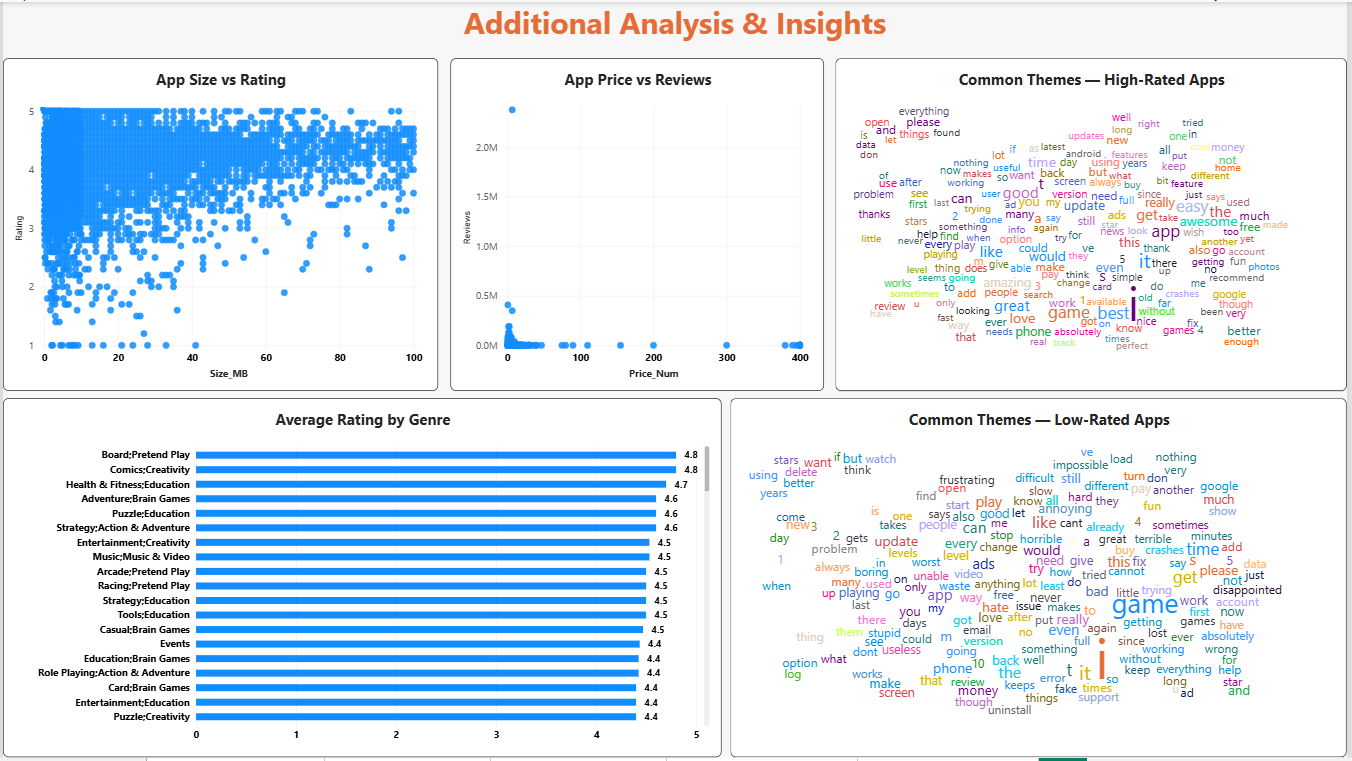

What the dashboard file says about the page in this screenshot:
{"tool":"powerbi","page":{"name":"Additional Analysis","canvas":[1920,1080],"ordinal":4},"visuals":[{"type":"textbox","box":[0,0,1919.7,80.4],"z":0},{"type":"scatterChart","title":"App Size vs Rating","fields":{"X":["Apps.Size_MB"],"Y":["Apps.Rating"]},"box":[0,80.4,621.4,475],"z":1000},{"type":"scatterChart","title":"App Price vs Reviews","fields":{"X":["Apps.Price_Num"],"Y":["Apps.Reviews"]},"box":[639.3,80.4,533.9,475],"z":2000},{"type":"clusteredBarChart","title":"Average Rating by Genre","fields":{"Category":["Apps.Genres"],"Y":["Avg(Apps.Rating)"]},"box":[0,566.1,1026.8,512.5],"z":3000},{"type":"WordCloud1447959067750","title":"Common Themes — High-Rated Apps","fields":{"Category":["googleplaystore_user_reviews.Translated_Review"]},"box":[1189.3,80.4,730.4,475],"z":3001},{"type":"WordCloud1447959067750","title":"Common Themes — Low-Rated Apps","fields":{"Category":["googleplaystore_user_reviews.Translated_Review"]},"box":[1039.3,566.1,880.4,512.5],"z":3002}]}

Visuals, with their boxes in screenshot pixels (x1, y1, x2, y2), scaled from the page's 1920x1080 canvas onto the 1352x761 screenshot:
textbox: 0 0 1351 57
"App Size vs Rating" scatterChart: 0 57 438 391
"App Price vs Reviews" scatterChart: 450 57 826 391
"Average Rating by Genre" clusteredBarChart: 0 399 723 760
"Common Themes — High-Rated Apps" WordCloud1447959067750: 837 57 1351 391
"Common Themes — Low-Rated Apps" WordCloud1447959067750: 732 399 1351 760
